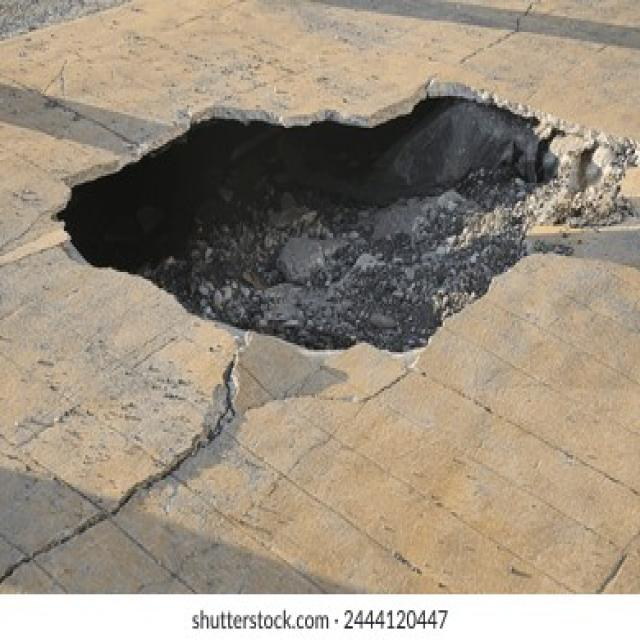road collapse: (5, 23, 640, 427)
